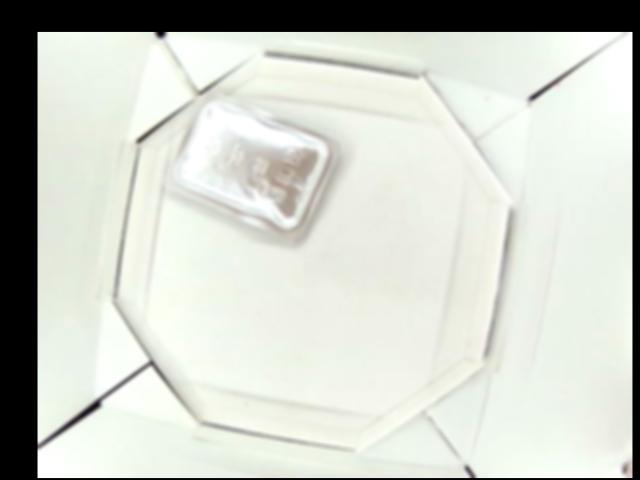Medicine: (163, 89, 345, 246)
